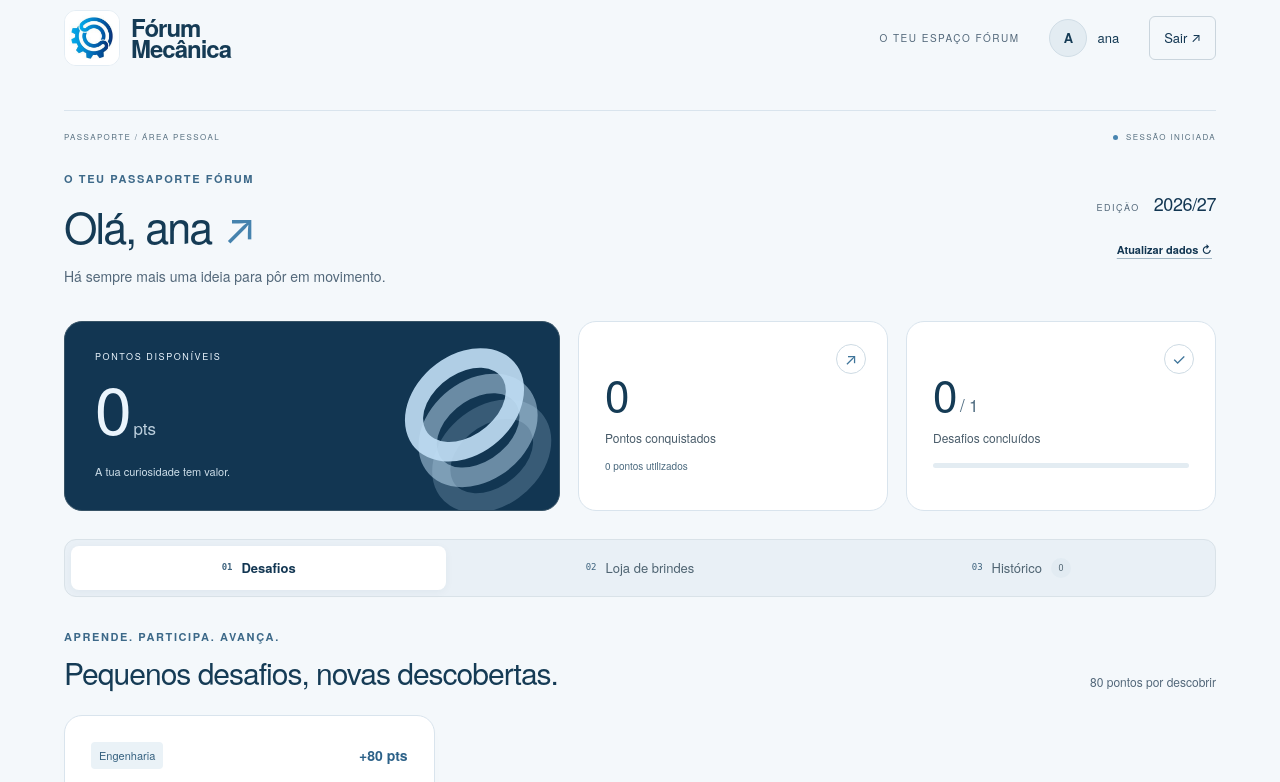
Test: Passaporte › mostra o histórico vazio e permite voltar aos desafios
Click the button "03 Histórico 0".
click(1021, 568)  # box [834,546,1209,590]
(page scrolled)
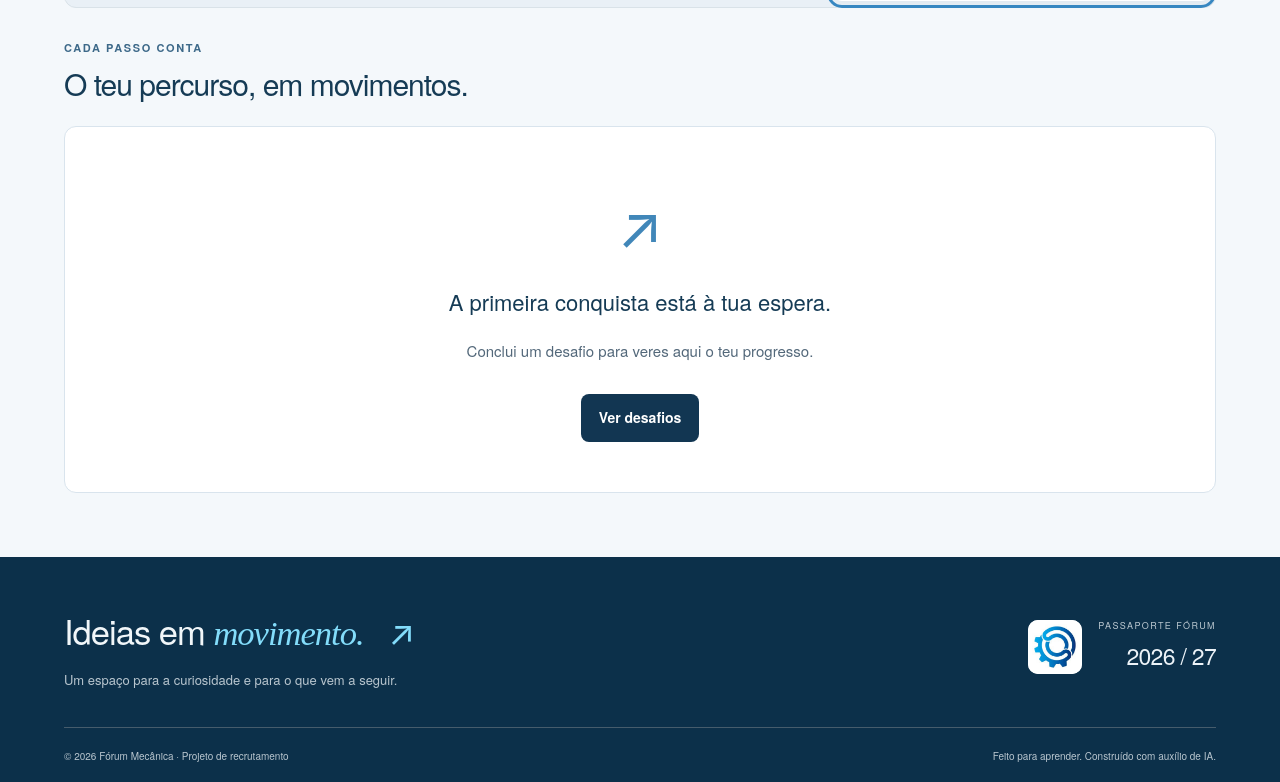
Result: the heading "A primeira conquista está à tua espera." is shown at [449,286,831,317]
Click the button "Ver desafios".
click(640, 418)  # box [581,394,699,442]
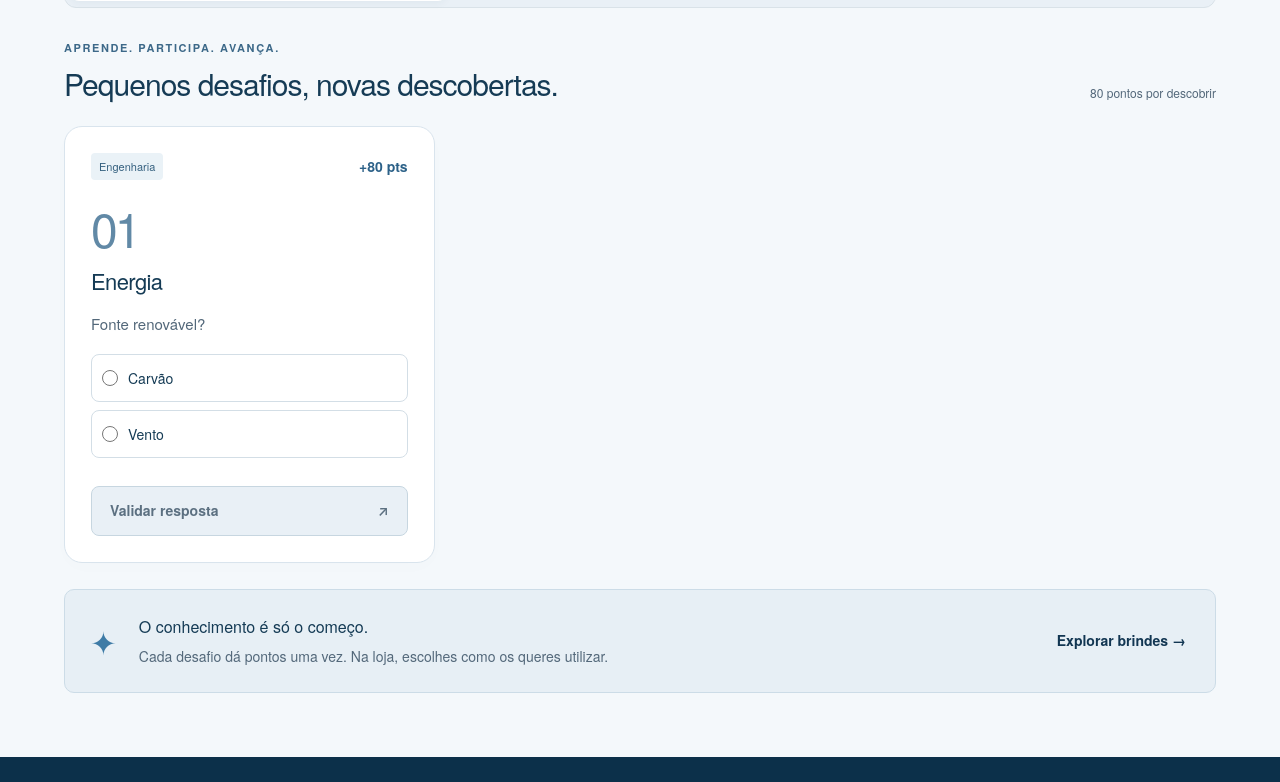
Result: the text "Fonte renovável?" is shown at [91,313,205,334]
